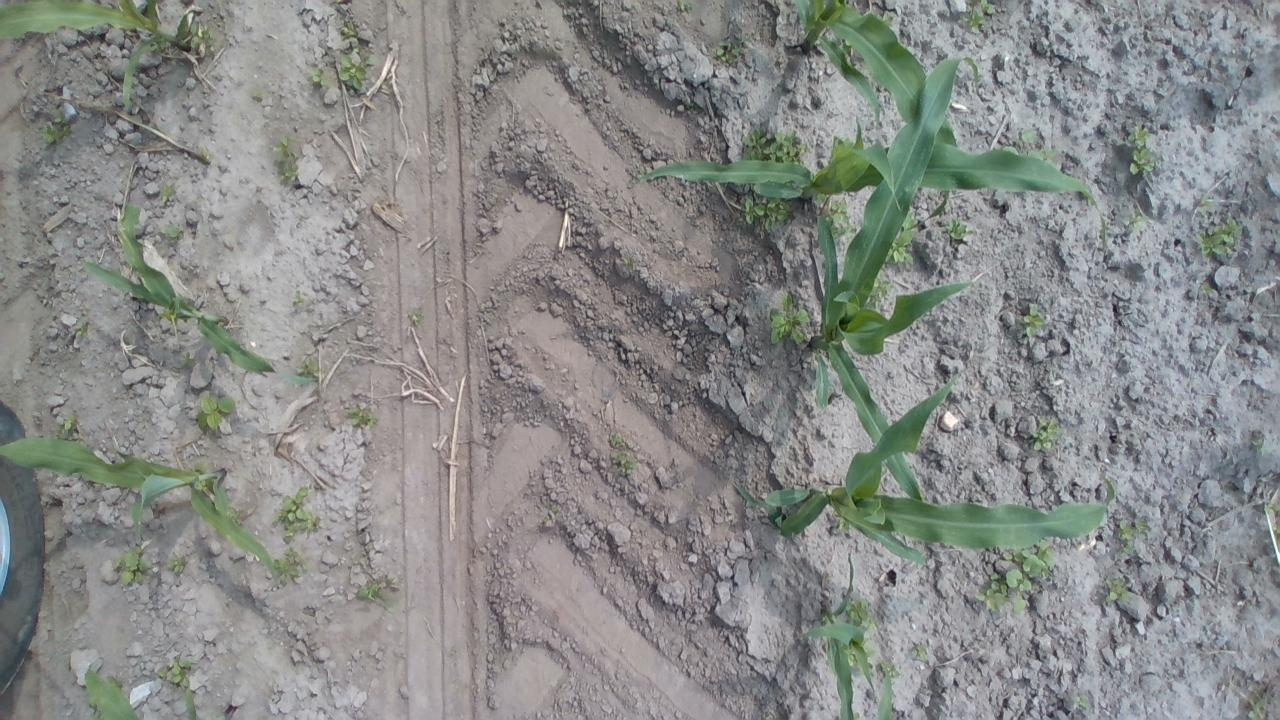Maize: (808, 57, 982, 506), (732, 367, 1118, 568), (638, 114, 1106, 250), (84, 202, 319, 388), (0, 436, 277, 582), (789, 0, 960, 230), (1, 0, 192, 111), (798, 550, 876, 720), (85, 665, 143, 720), (175, 659, 196, 720), (876, 661, 892, 720)
Weeds: (975, 543, 1061, 613), (272, 483, 324, 542), (738, 126, 812, 163), (766, 290, 810, 344), (1124, 120, 1162, 176), (354, 572, 402, 614), (1198, 217, 1242, 258), (336, 52, 378, 92), (270, 134, 300, 187), (1115, 516, 1152, 558), (607, 429, 638, 476), (274, 546, 310, 584), (959, 0, 997, 36), (197, 395, 236, 430), (114, 546, 146, 585), (156, 654, 192, 687), (1030, 416, 1062, 453), (830, 198, 856, 242), (1246, 681, 1273, 720), (844, 598, 877, 629), (344, 404, 378, 431), (1120, 206, 1150, 236), (188, 22, 216, 50), (1103, 575, 1132, 602), (1020, 304, 1044, 336), (294, 354, 326, 378), (40, 121, 72, 145), (764, 200, 787, 233), (941, 218, 976, 239), (54, 410, 78, 439), (714, 41, 742, 64), (742, 198, 766, 224), (1250, 432, 1274, 456), (909, 640, 932, 664), (889, 242, 916, 262), (164, 552, 188, 574), (158, 180, 180, 203), (308, 65, 329, 88), (879, 658, 900, 679), (626, 165, 646, 187), (1196, 193, 1214, 216), (163, 221, 180, 244), (339, 16, 355, 40), (540, 502, 558, 522), (1073, 694, 1093, 711), (875, 277, 890, 299), (406, 308, 422, 328), (178, 350, 196, 367), (1028, 148, 1058, 158), (1020, 127, 1038, 143), (74, 320, 88, 338), (676, 0, 694, 13), (291, 287, 304, 305), (1262, 501, 1280, 514), (1201, 280, 1215, 296), (54, 107, 68, 123), (839, 518, 852, 535), (865, 637, 877, 655), (227, 506, 240, 520), (108, 674, 121, 686), (251, 90, 264, 100), (848, 652, 856, 665), (886, 14, 894, 26), (1272, 522, 1280, 534), (201, 148, 209, 160), (449, 646, 457, 656), (352, 48, 360, 54)
